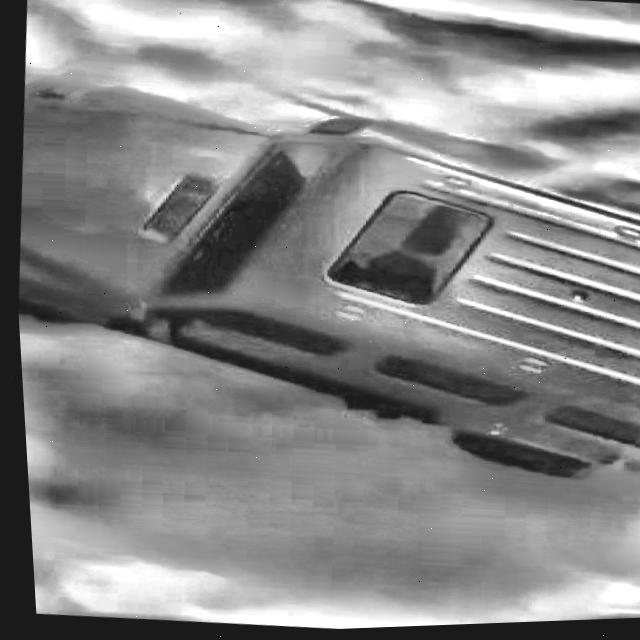light_vehicle: (3, 41, 640, 522)
